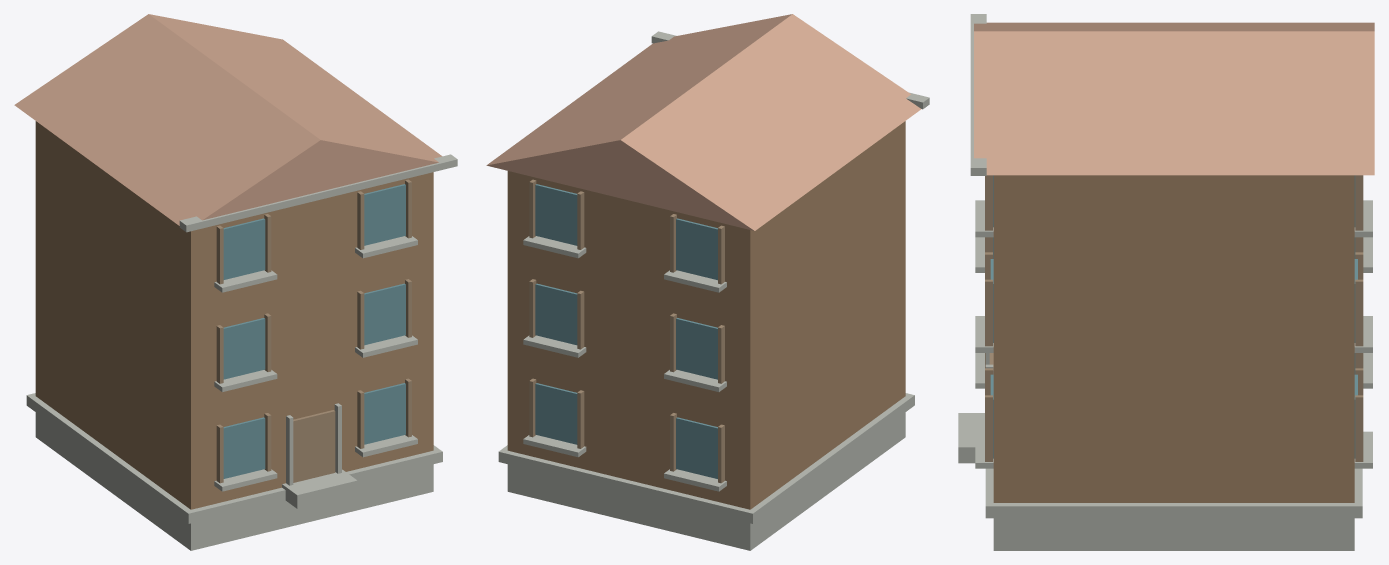
Rendered from farm-2.glb.
The picture shows the model from 3 angles, left to right: view 1: azimuth 30°, elevation 25°; view 2: azimuth 150°, elevation 25°; view 3: azimuth 270°, elevation 25°; orthographic projection. The views are drawn at different scales.
Size of the model in its own units: 4.14 by 5.65 by 4.73.
